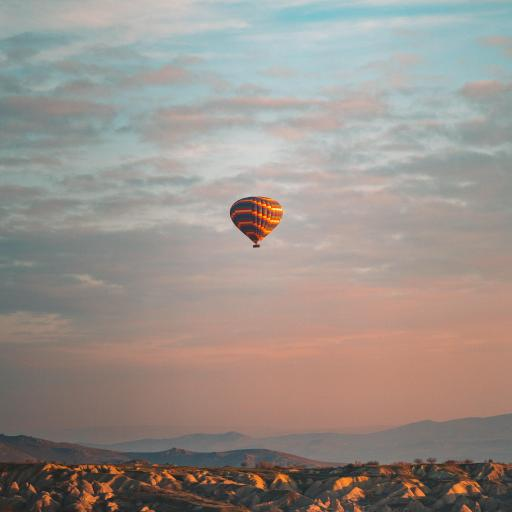hot air ballon: (230, 196, 283, 247)
